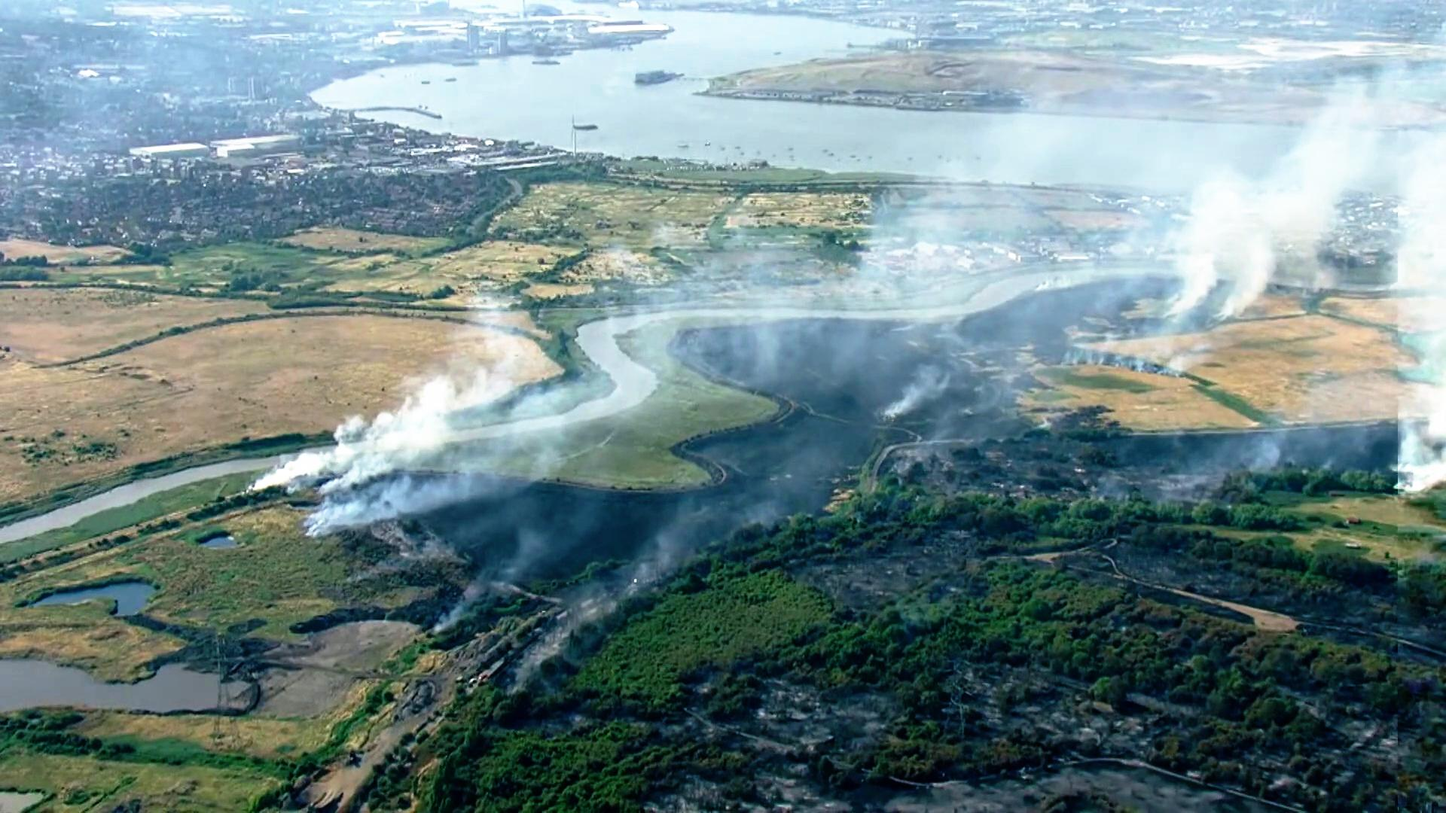smoke: (368, 416, 424, 493)
